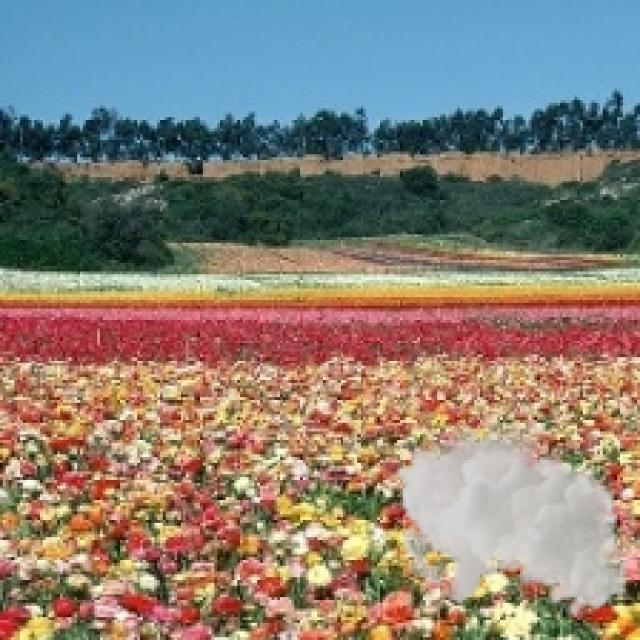Smoke: (394, 417, 629, 617)
